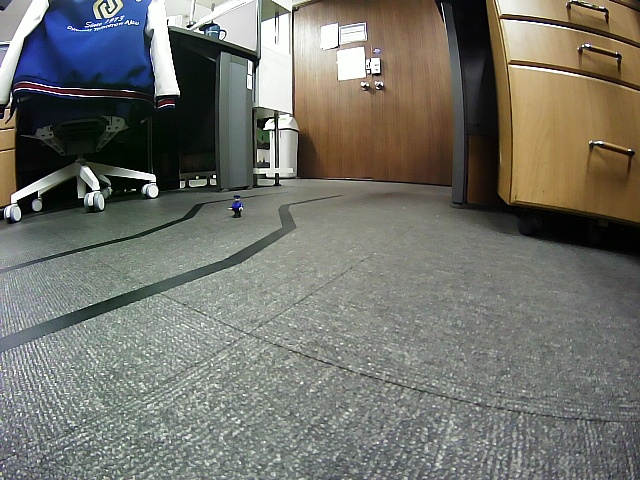person: (227, 195, 244, 219)
